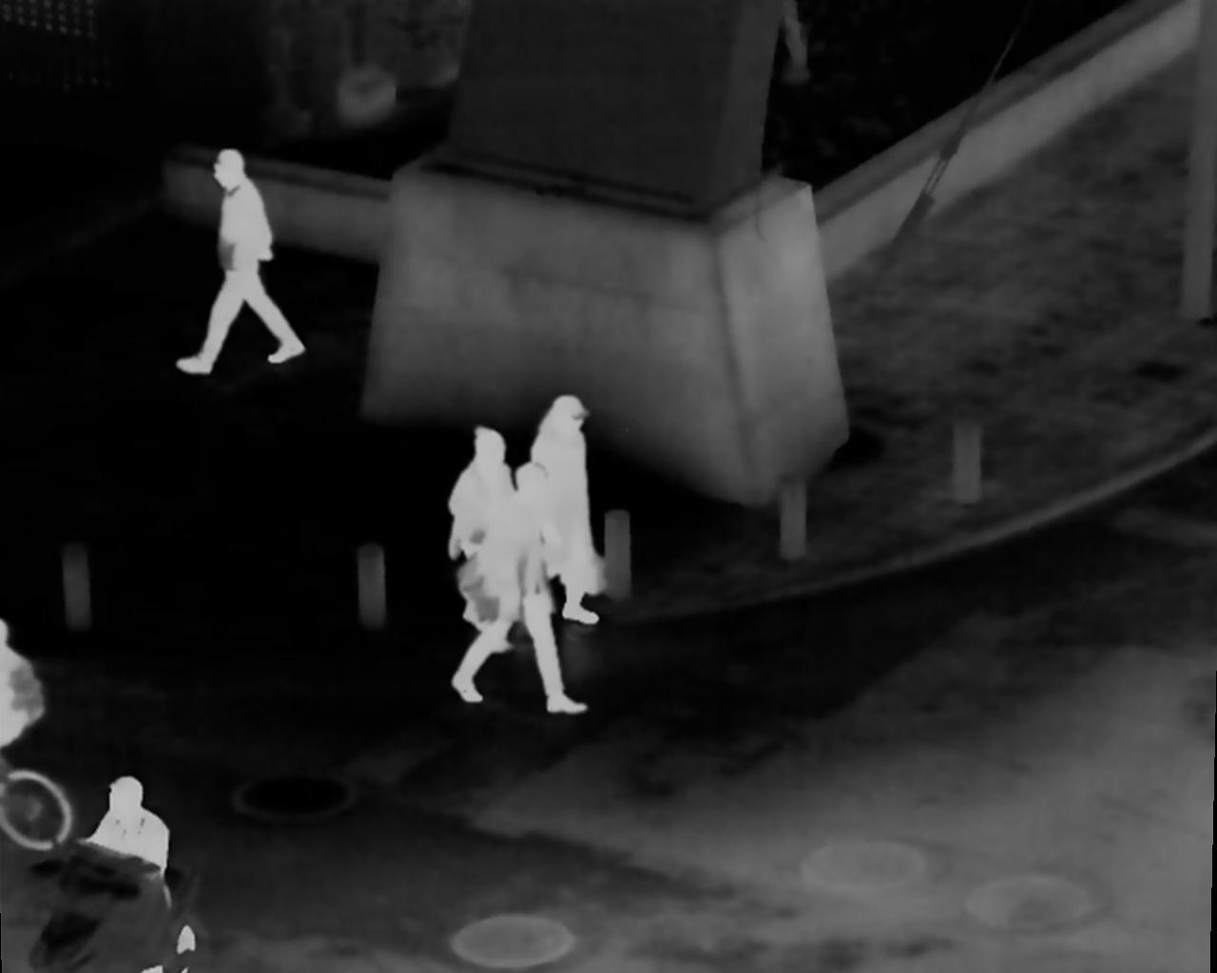person: (177, 145, 293, 370), (474, 469, 575, 714), (71, 775, 190, 947), (529, 391, 617, 617), (436, 431, 513, 615)
